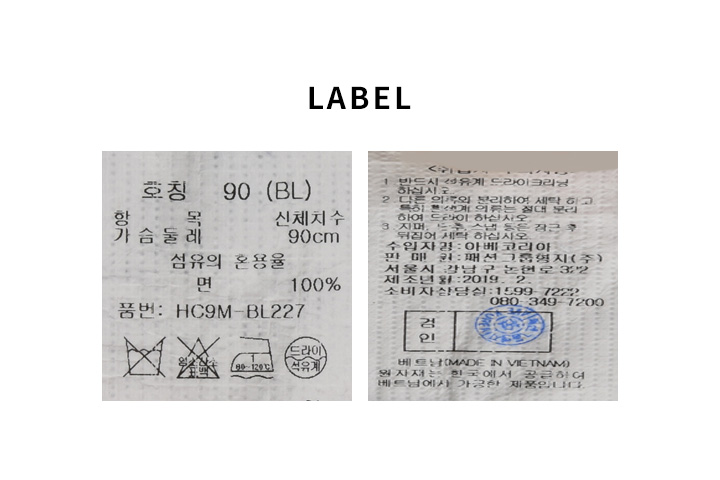KR_dry_clean_petroleum: (280, 331, 331, 380)
KR_iron_low_temp_with_cloth: (227, 333, 280, 381)
KR_no_bleach: (173, 335, 222, 386)
KR_no_wash: (122, 330, 168, 384)
